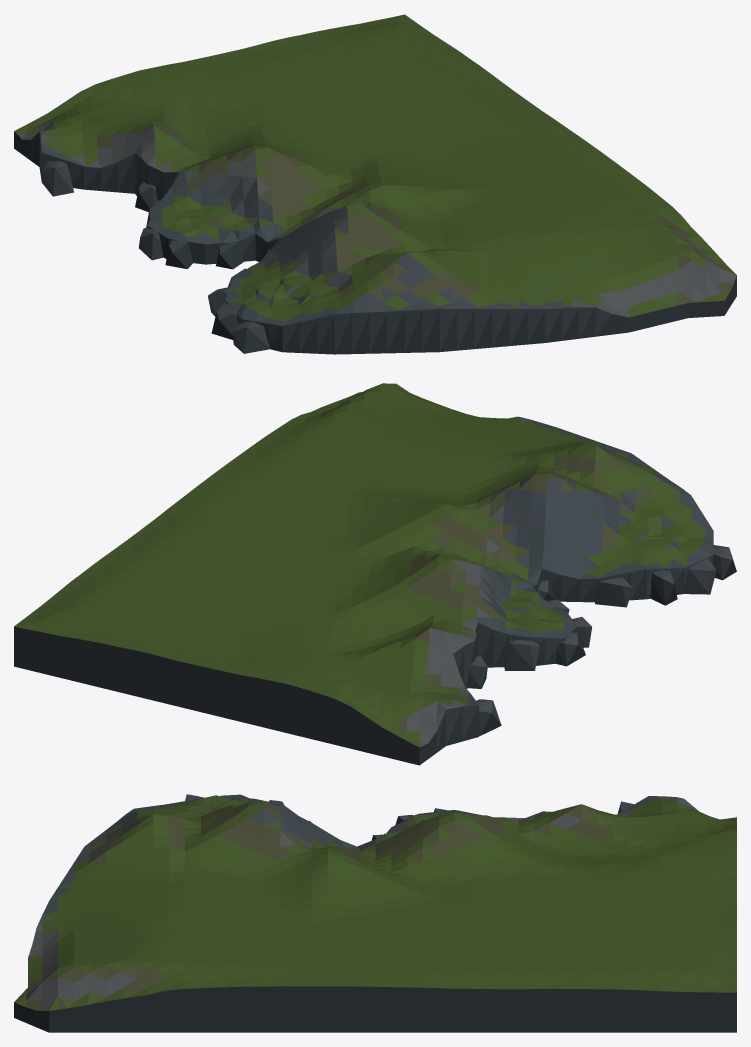
The model's file is mainland_headland.glb.
The picture shows the model from 3 angles, top to bottom: view 1: azimuth 30°, elevation 25°; view 2: azimuth 150°, elevation 25°; view 3: azimuth 270°, elevation 25°; orthographic projection. The views are drawn at different scales.
Visible parts, largest first — view 1: mainland_headland_Coast blue grey bedrock; view 2: mainland_headland_Coast blue grey bedrock; view 3: mainland_headland_Coast blue grey bedrock.
Part boxes in pixels (<box>): mainland_headland_Coast blue grey bedrock: <box>14,14,736,354</box>; mainland_headland_Coast blue grey bedrock: <box>14,383,736,765</box>; mainland_headland_Coast blue grey bedrock: <box>14,794,736,1032</box>.
Size of the model in its own units: 293 by 54.48 by 410.
